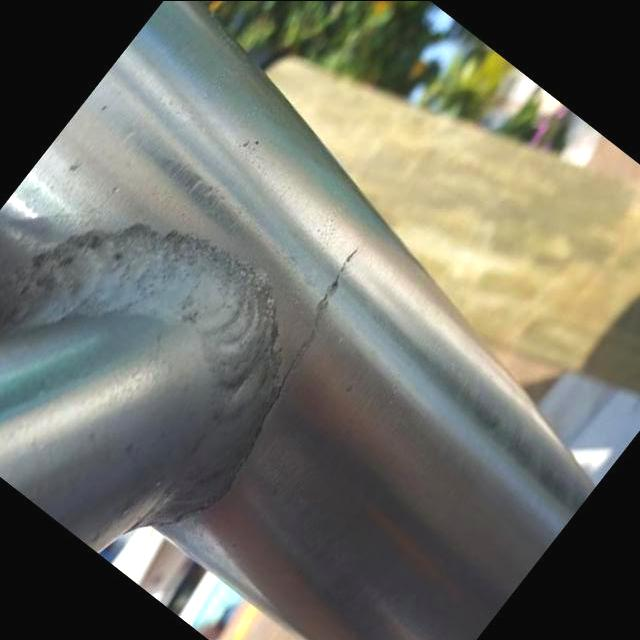defect: (155, 238, 368, 536)
